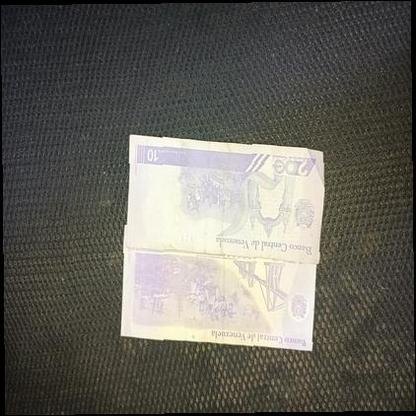ten-back-vef: (126, 134, 324, 264)
two_hundred-back-vef: (119, 251, 317, 352)
